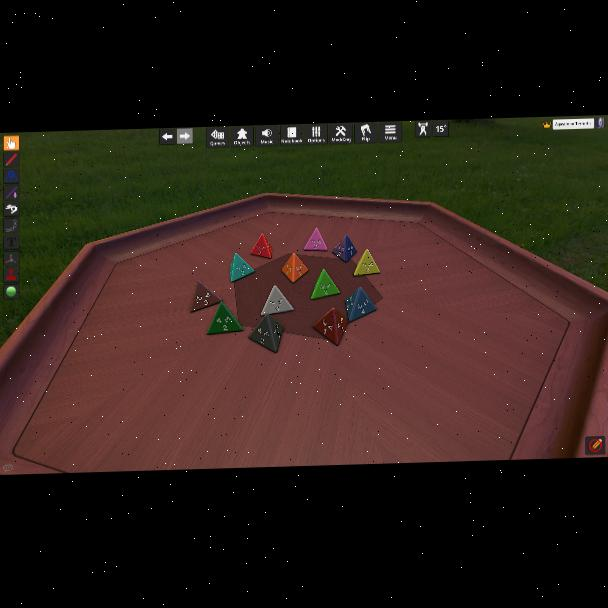d4: (248, 313, 286, 355), (313, 308, 347, 347), (207, 300, 243, 334), (344, 286, 375, 323), (190, 280, 222, 313), (262, 285, 294, 317), (311, 269, 339, 300), (229, 252, 254, 283), (281, 253, 306, 284), (354, 249, 380, 277), (332, 235, 356, 263), (250, 234, 272, 261), (304, 229, 326, 252)
